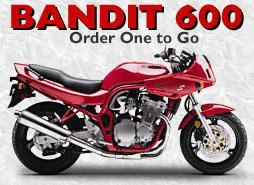motorcycle: (7, 38, 252, 182)
